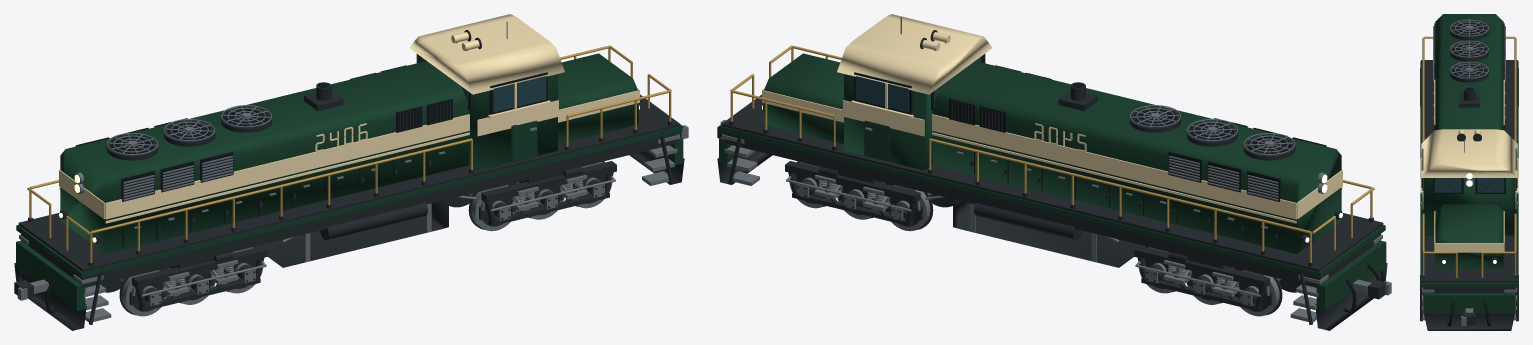
The model's file is demo-diesel-locomotive.glb.
3 views of the same model, side by side, from view 1: azimuth 30°, elevation 25°; view 2: azimuth 150°, elevation 25°; view 3: azimuth 270°, elevation 25° (orthographic). The views are drawn at different scales.
Visible parts, largest first — view 1: Mesh_Long_hood, Mesh_Walkway_tread, Mesh_Cream_cab_roof, Mesh_Main_sill, Mesh_Cream_hood_band_1, Mesh_Short_nose, Mesh_Red_walkway_edge, Mesh_Fuel_tank, Mesh_Cab_shell, Mesh_Pilot_beam_-1, Mesh_Air_reservoir_1, Mesh_Truck_upper_frame_1 (+15 smaller); view 2: Mesh_Long_hood, Mesh_Walkway_tread, Mesh_Cream_cab_roof, Mesh_Main_sill, Mesh_Cream_hood_band_-1, Mesh_Short_nose, Mesh_Red_walkway_edge, Mesh_Fuel_tank, Mesh_Cab_shell, Mesh_Pilot_beam_-1, Mesh_Air_reservoir_-1, Mesh_Truck_upper_frame_-1 (+15 smaller); view 3: Mesh_Long_hood, Mesh_Cream_cab_roof, Mesh_Walkway_tread, Mesh_Short_nose, Mesh_Cab_shell, Mesh_Pilot_beam_1, Mesh_Pilot_plow_1, Mesh_Red_walkway_edge, Mesh_Front_nose_cream_band, Mesh_Main_sill, Mesh_Windshield_glass_4.872_-1, Mesh_Windshield_glass_4.872_1 (+29 smaller).
Boxes of the visible parts, x1,y1,x2,y2 form: Mesh_Long_hood: [60, 61, 469, 253]; Mesh_Walkway_tread: [18, 94, 680, 271]; Mesh_Cream_cab_roof: [409, 14, 564, 94]; Mesh_Main_sill: [21, 132, 677, 288]; Mesh_Cream_hood_band_1: [105, 114, 469, 219]; Mesh_Short_nose: [558, 53, 638, 144]; Mesh_Red_walkway_edge: [16, 125, 682, 277]; Mesh_Fuel_tank: [255, 199, 448, 267]; Mesh_Cab_shell: [416, 54, 557, 170]; Mesh_Pilot_beam_-1: [16, 240, 85, 310]; Mesh_Air_reservoir_1: [320, 203, 427, 239]; Mesh_Truck_upper_frame_1: [132, 246, 267, 288]; Mesh_Long_hood: [932, 61, 1341, 253]; Mesh_Walkway_tread: [721, 94, 1383, 271]; Mesh_Cream_cab_roof: [837, 14, 992, 94]; Mesh_Main_sill: [724, 132, 1380, 288]; Mesh_Cream_hood_band_-1: [932, 114, 1296, 219]; Mesh_Short_nose: [763, 53, 843, 144]; Mesh_Red_walkway_edge: [719, 125, 1385, 277]; Mesh_Fuel_tank: [953, 199, 1146, 267]; Mesh_Cab_shell: [844, 54, 985, 170]; Mesh_Pilot_beam_-1: [1316, 240, 1386, 310]; Mesh_Air_reservoir_-1: [974, 203, 1081, 239]; Mesh_Truck_upper_frame_-1: [1134, 246, 1269, 288]; Mesh_Long_hood: [1435, 14, 1503, 130]; Mesh_Cream_cab_roof: [1421, 129, 1517, 177]; Mesh_Walkway_tread: [1421, 60, 1517, 282]; Mesh_Short_nose: [1435, 204, 1503, 268]; Mesh_Cab_shell: [1423, 178, 1515, 235]; Mesh_Pilot_beam_1: [1423, 293, 1515, 313]; Mesh_Pilot_plow_1: [1424, 314, 1514, 330]; Mesh_Red_walkway_edge: [1420, 61, 1518, 287]; Mesh_Front_nose_cream_band: [1435, 243, 1503, 252]; Mesh_Main_sill: [1423, 287, 1515, 295]; Mesh_Windshield_glass_4.872_-1: [1477, 178, 1504, 192]; Mesh_Windshield_glass_4.872_1: [1434, 178, 1461, 192].
Bounding box in the file's own units: 18.16 × 4.98 × 3.07.
